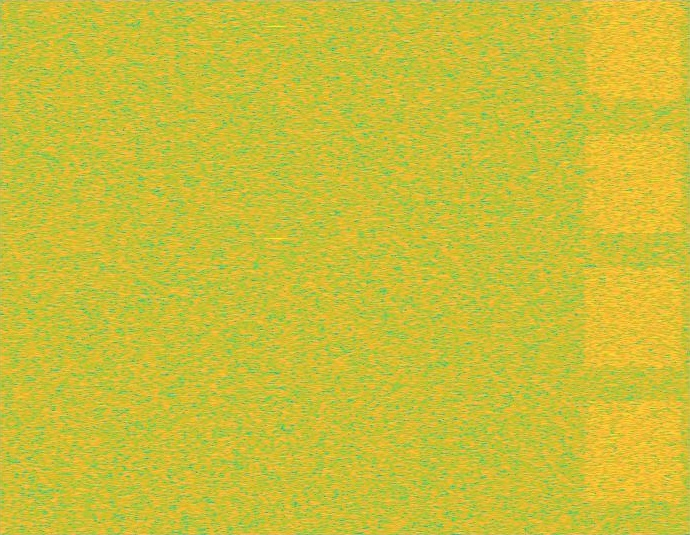5G: (582, 0, 685, 534)
Radar: (269, 0, 283, 534)
